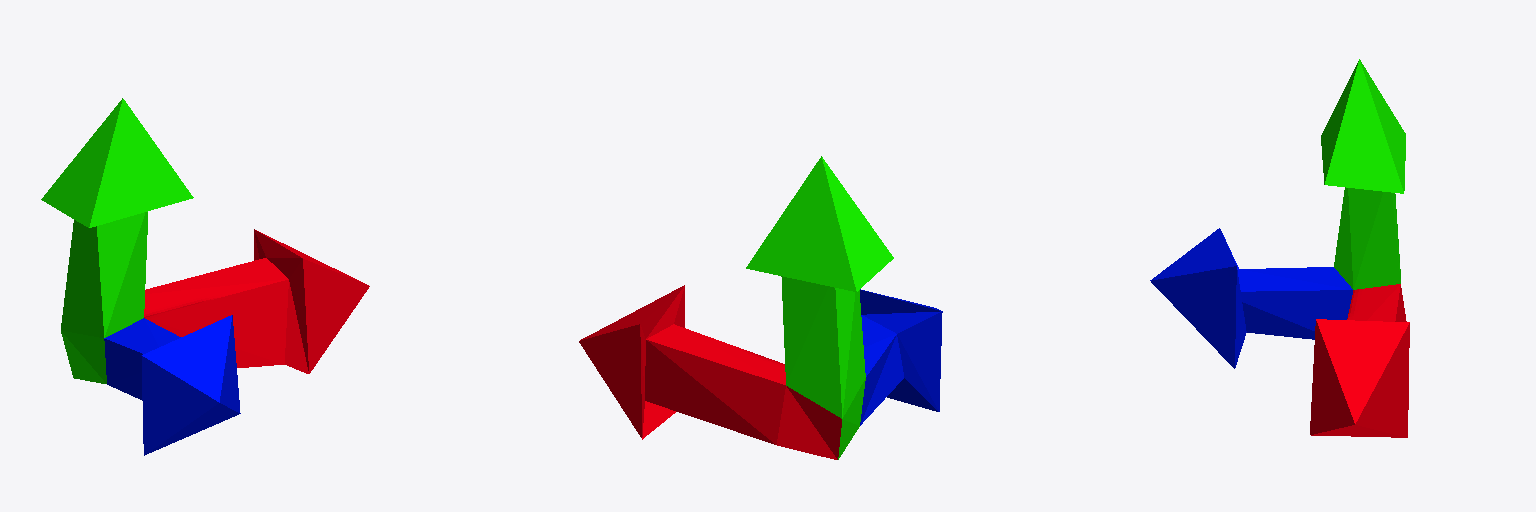
3 renders of one model, left to right at view 1: azimuth 30°, elevation 25°; view 2: azimuth 150°, elevation 25°; view 3: azimuth 270°, elevation 25°, orthographic.
Parts seen in each view (by area): view 1: Cube; view 2: Cube; view 3: Cube.
Boxes of the visible parts, box(x1,y1,x2,y2) form: Cube: box(41, 98, 369, 455); Cube: box(579, 156, 942, 459); Cube: box(1150, 59, 1409, 437).
Bounding box in the file's own units: 0.2318 × 0.2214 × 0.1719.
1 materials, 1 textured.